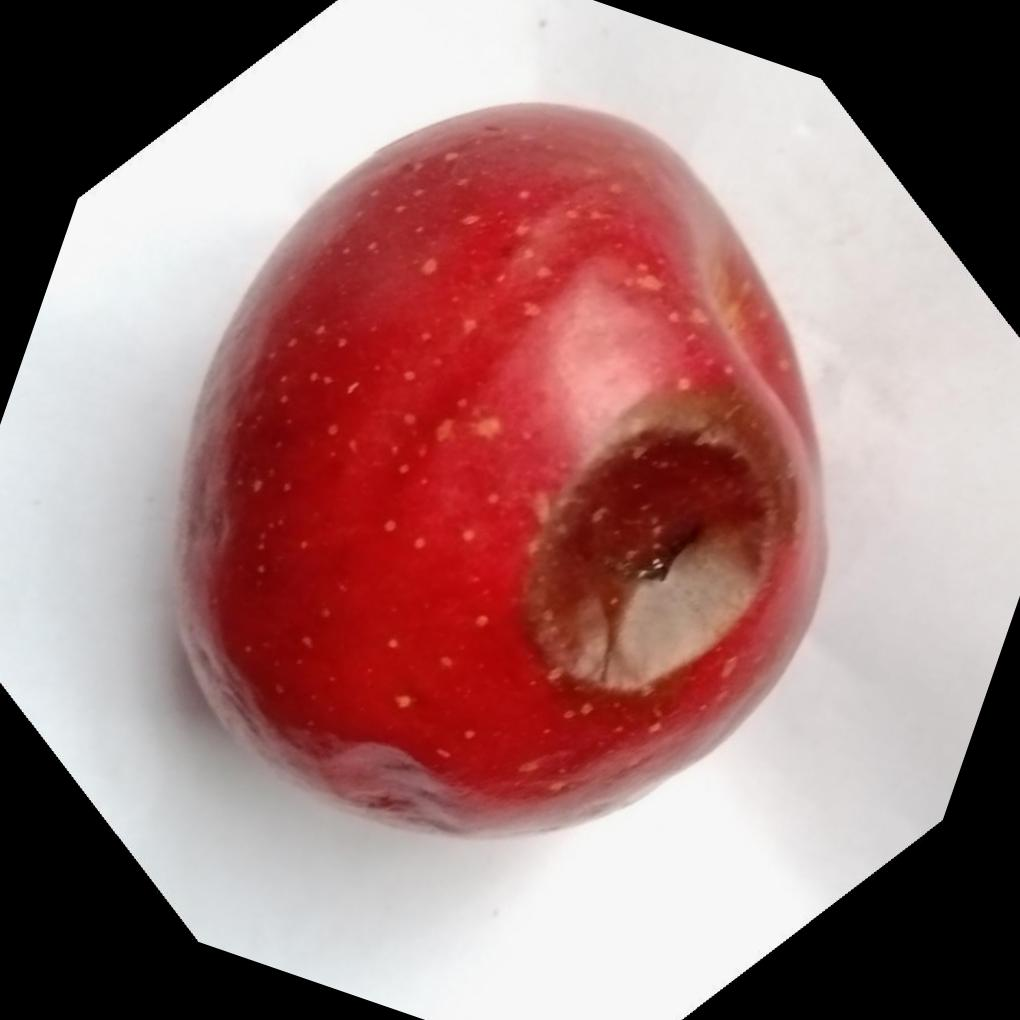FreshOrange: (171, 101, 834, 842)
